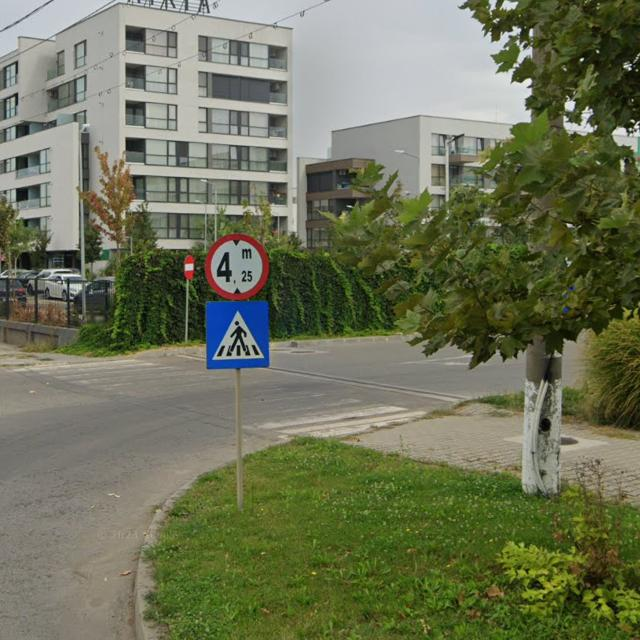forb_ahead: (183, 256, 194, 280)
info_crosswalk: (204, 300, 270, 368)
